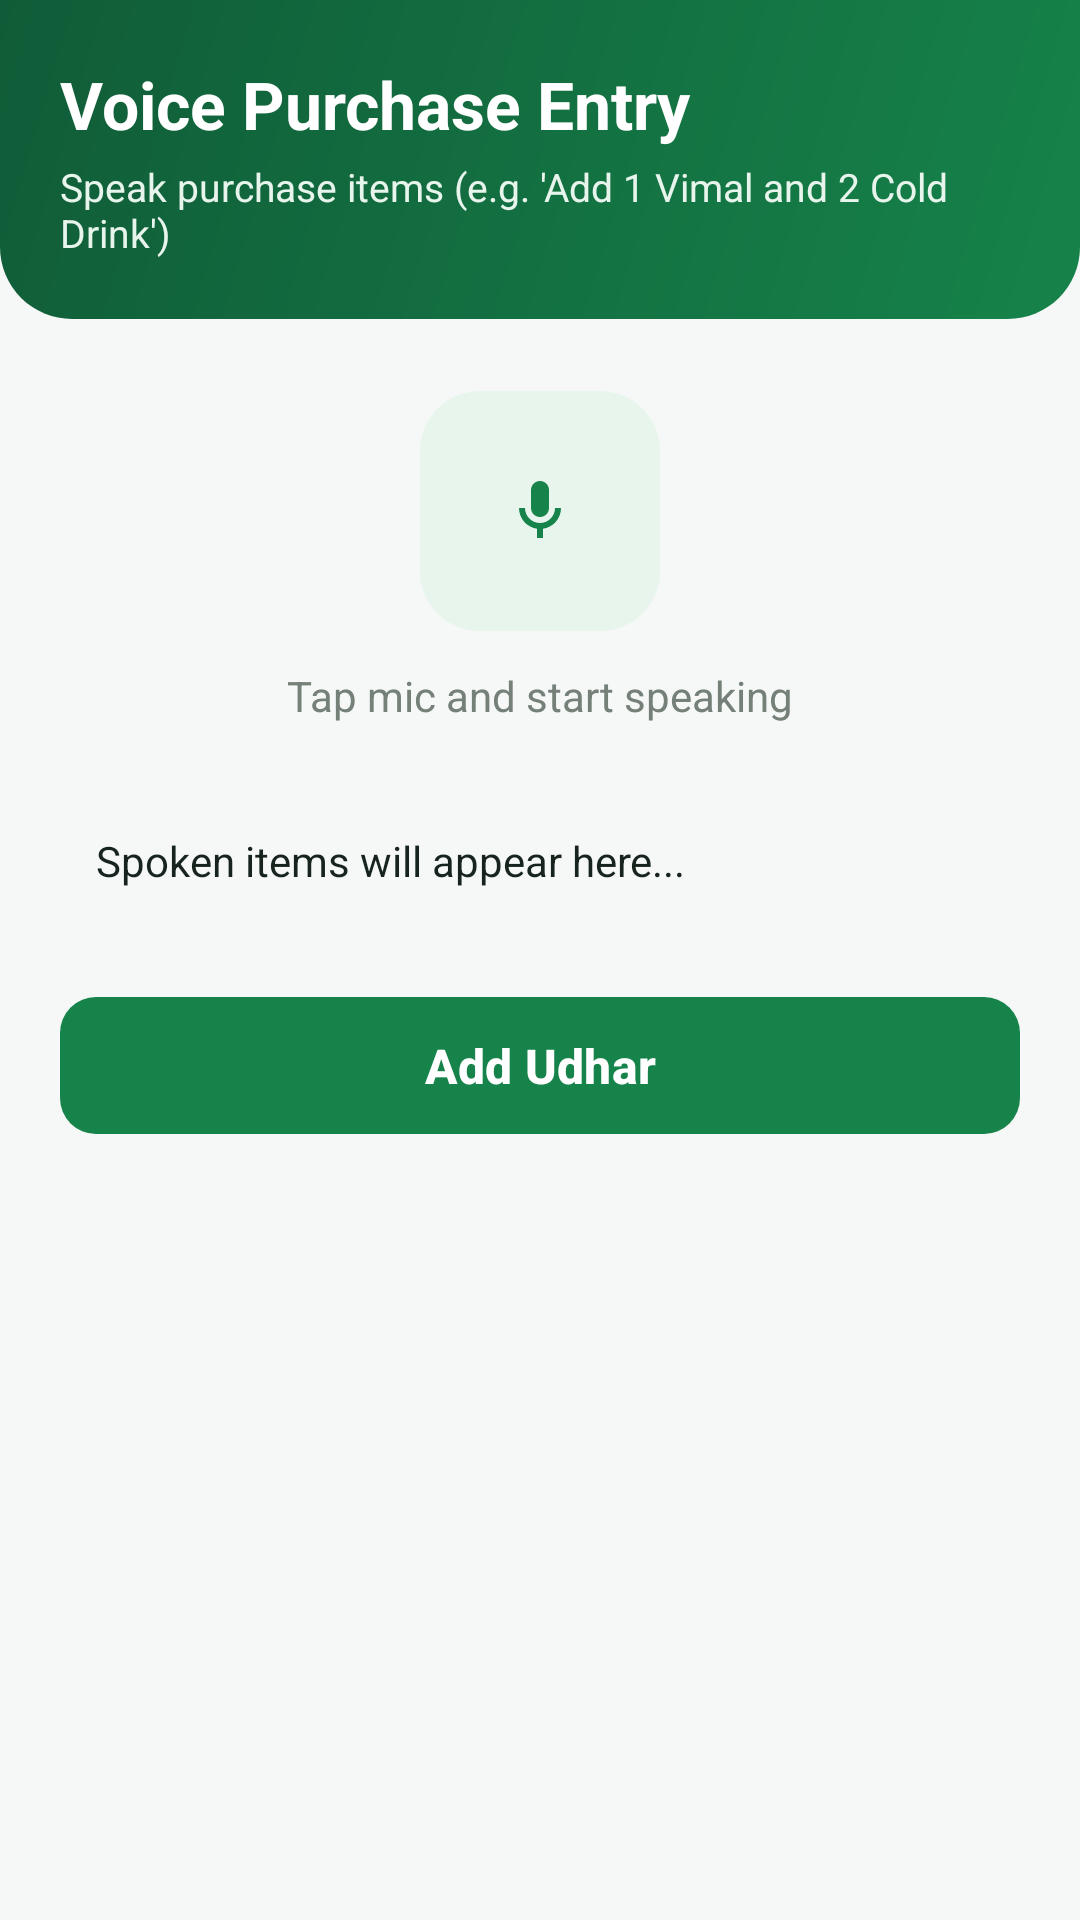

Named icons in this screenshot (1080 x 1920) and their centers, [x,y]:
Voice Purchase Entry: [540,511]
